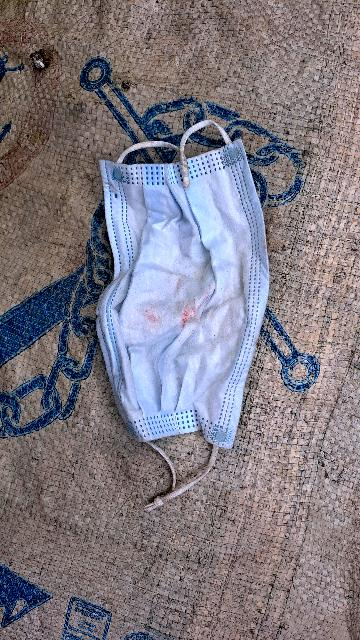mask: (71, 109, 295, 526)
